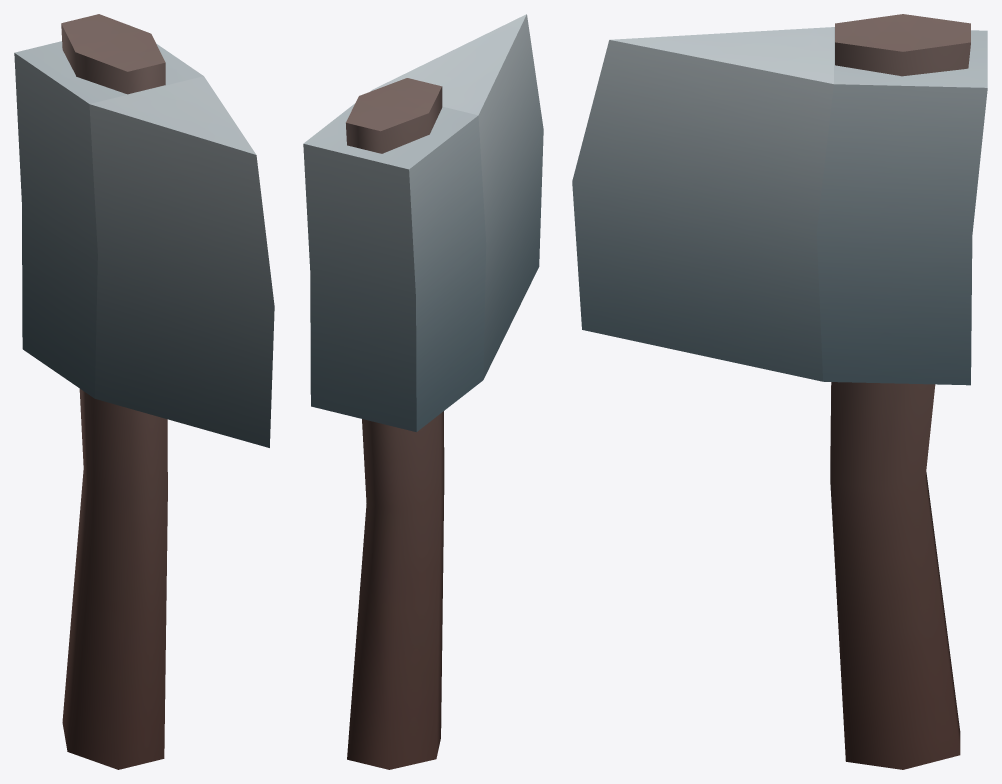
File: wp cap1.fbx
The picture shows the model from 3 angles, left to right: view 1: azimuth 30°, elevation 25°; view 2: azimuth 150°, elevation 25°; view 3: azimuth 270°, elevation 25°; orthographic projection. The views are drawn at different scales.
Visible parts, largest first — view 1: wp_cap1; view 2: wp_cap1; view 3: wp_cap1.
Part boxes in pixels (x1,y1,x2,y2): wp_cap1: [14, 14, 274, 769]; wp_cap1: [303, 14, 543, 769]; wp_cap1: [572, 14, 987, 769].
Size of the model in its own units: 15.08 by 88.21 by 46.32.
Materials: 1 (1 with a texture image).
